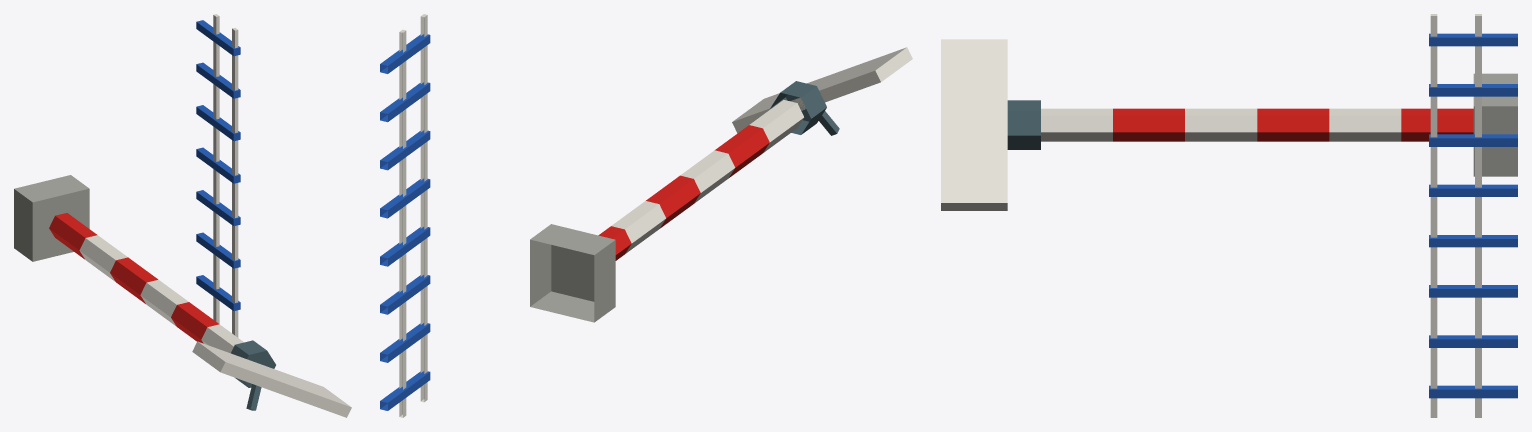
File: frame_5.glb
The picture shows the model from 3 angles, left to right: view 1: azimuth 30°, elevation 25°; view 2: azimuth 150°, elevation 25°; view 3: azimuth 270°, elevation 25°; orthographic projection. The views are drawn at different scales.
Visible parts, largest first — view 1: t5_4_g31.005; view 2: t5_4_g31.005; view 3: t5_4_g31.005.
Part boxes in pixels (bbox=[...]): t5_4_g31.005: bbox=[14, 14, 351, 417]; t5_4_g31.005: bbox=[380, 14, 912, 417]; t5_4_g31.005: bbox=[941, 14, 1517, 417].
Size of the model in its own units: 11.16 by 16 by 20.8.
